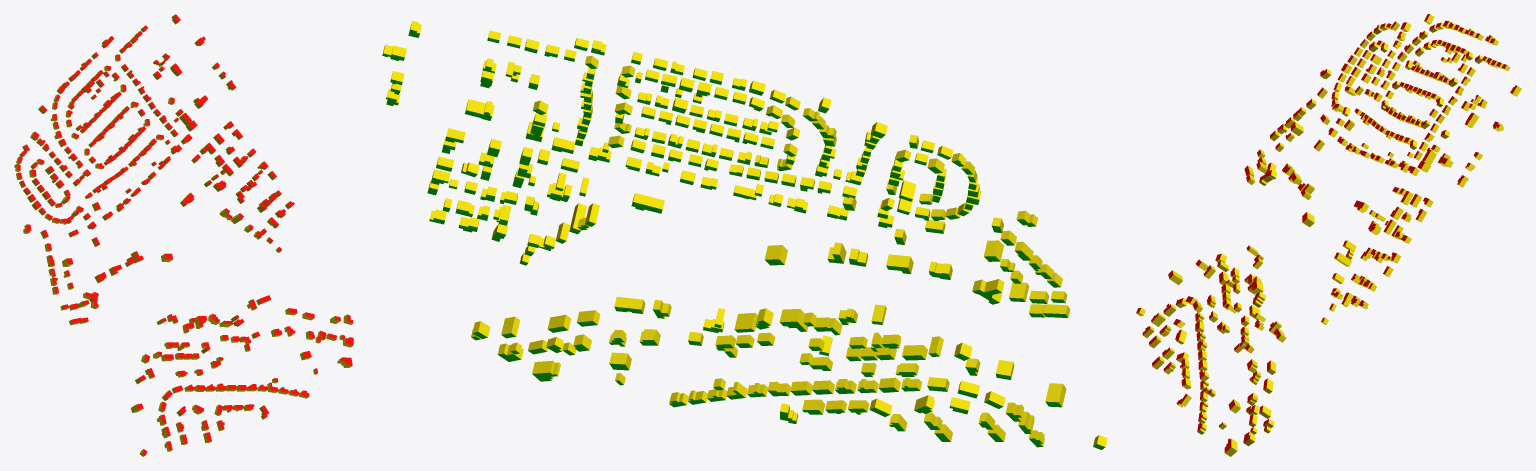
3 renders of one model, left to right at view 1: azimuth 30°, elevation 25°; view 2: azimuth 150°, elevation 25°; view 3: azimuth 270°, elevation 25°, orthographic. The views are drawn at different scales.
Parts seen in each view (by area): view 1: mesh; view 2: mesh; view 3: mesh.
Part boxes in pixels (<box>): mesh: <box>14,14,353,456</box>; mesh: <box>382,21,1107,449</box>; mesh: <box>1136,14,1521,456</box>.
Bounding box in the file's own units: 846 × 778 × 765.
